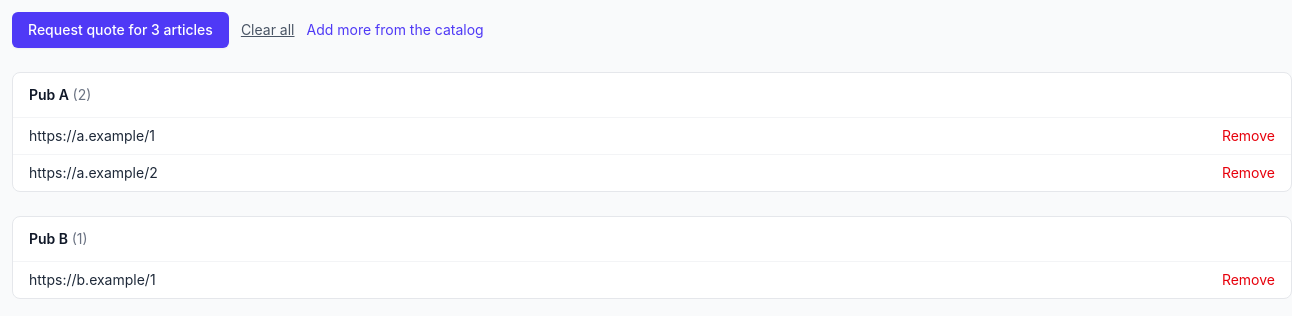
it: ExportReview › removes a work
What coordinates should you click on to do the following:
click the button with aria-label "Remove https://b.example/1"
I would click on:
 (1248, 280)
Its box is [1222,270,1275,290].
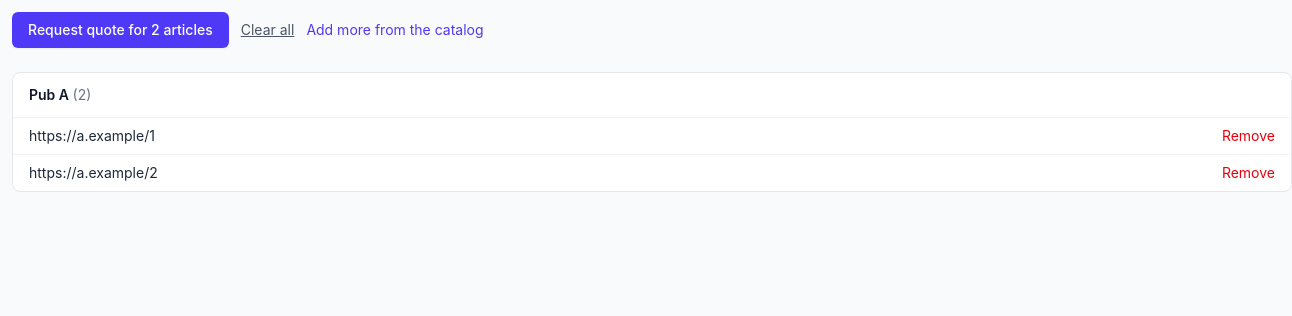
Expected: the text "https://b.example/1" is gone
